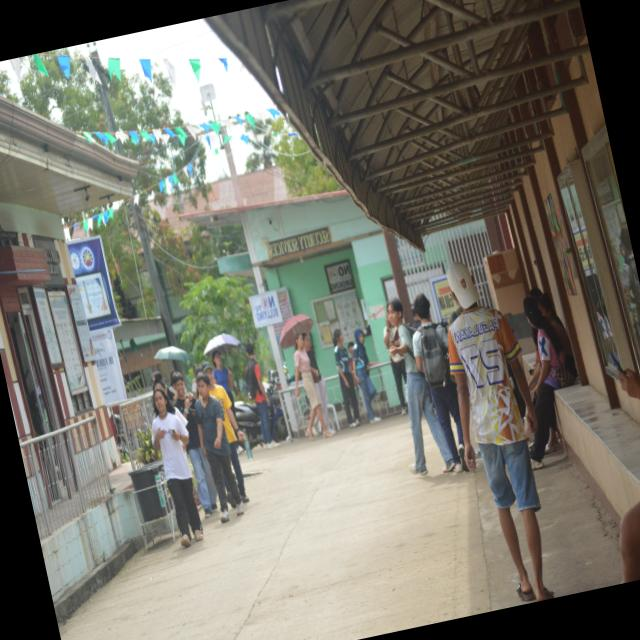person: (447, 262, 552, 600), (386, 298, 454, 476), (412, 294, 468, 472), (151, 389, 202, 547), (195, 372, 243, 522), (523, 298, 564, 469), (171, 372, 216, 518), (202, 362, 248, 503), (293, 333, 333, 440), (245, 344, 277, 448), (302, 333, 334, 432), (332, 329, 359, 428), (352, 329, 380, 423), (618, 502, 639, 582), (390, 354, 407, 415)
